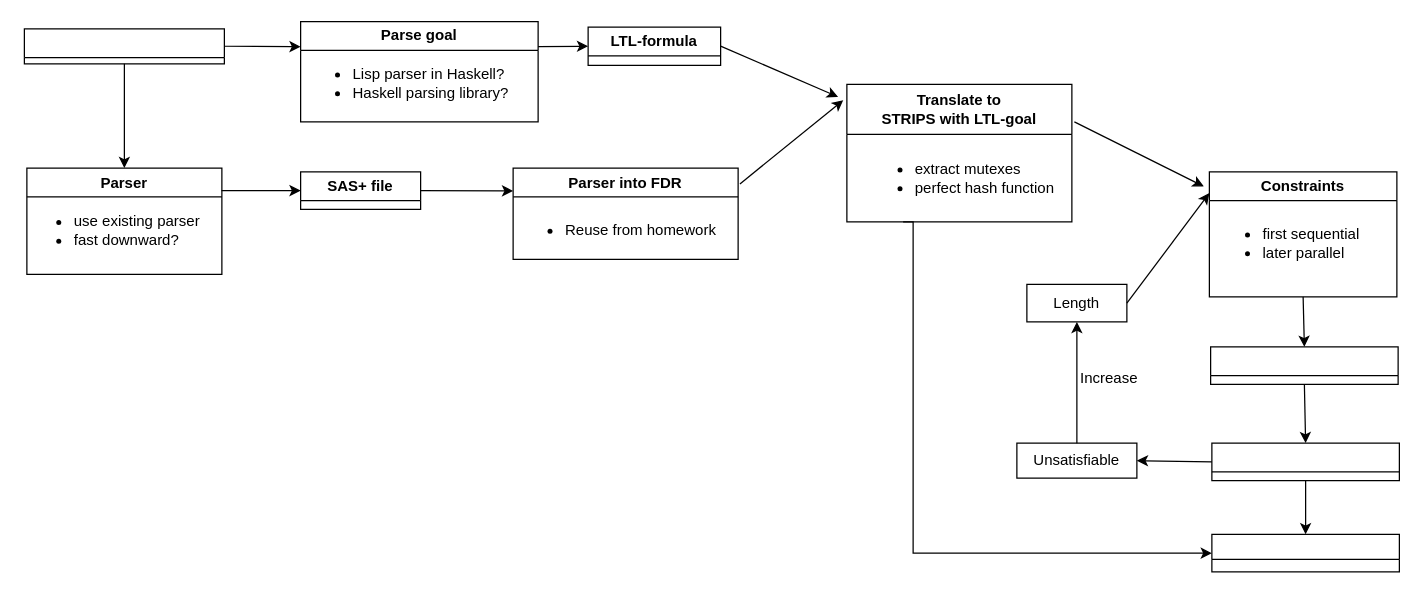
Image size: 1421x595. Some labels were removed from this diagram. Here are the shapes that lost their labels. From the top down, the centre of each, then its label:
the point at 123,46: Input: Pddl3
the point at 1303,365: Format input SAT solver
the point at 1305,461: SAT solver
the point at 1305,552: Translate output to plan
